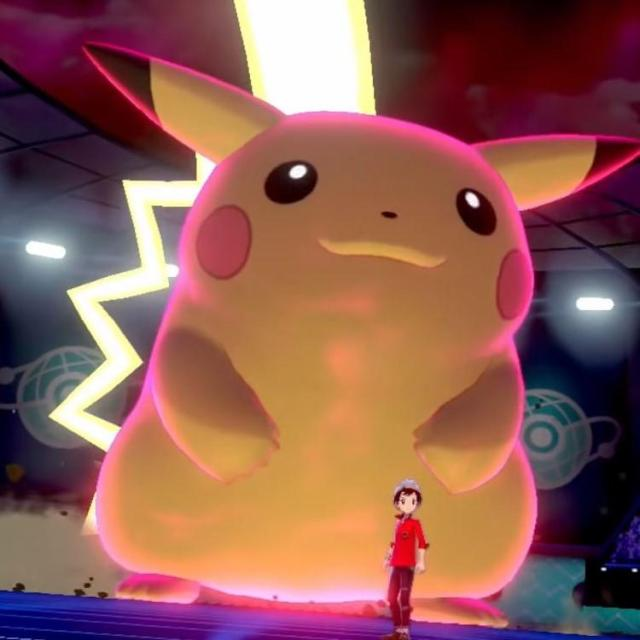pikachu: (80, 37, 640, 632)
